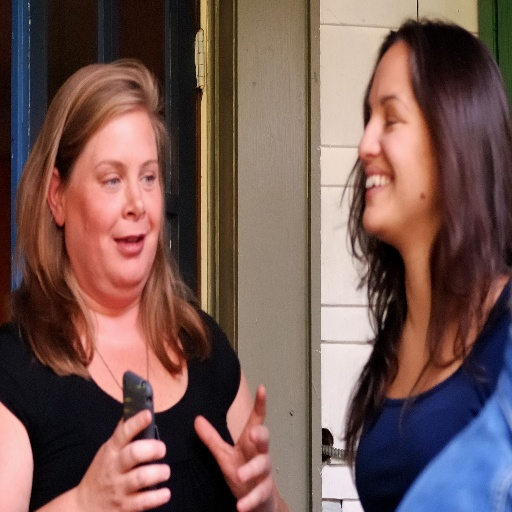hand: (193, 382, 279, 511), (77, 394, 166, 507)
